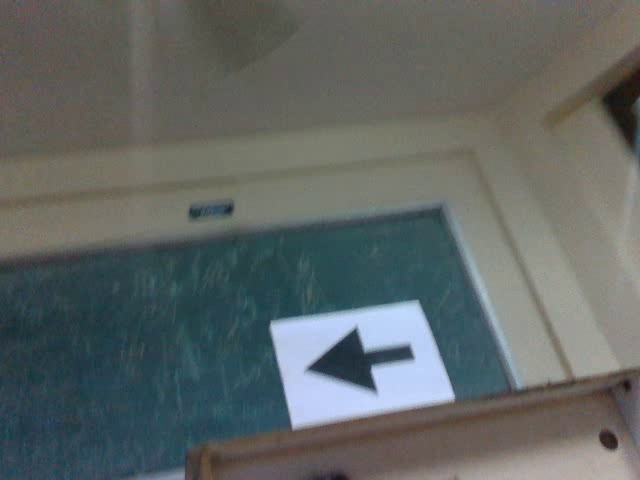Left: (293, 321, 418, 398)
